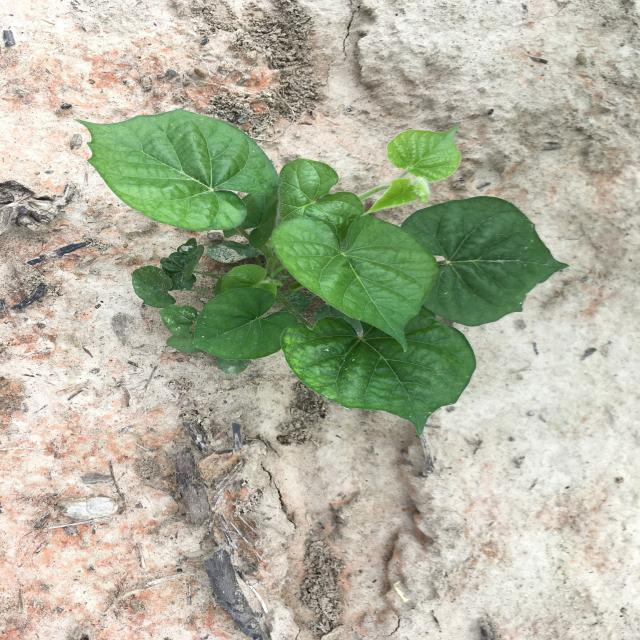MorningGlory: (74, 108, 569, 436)
